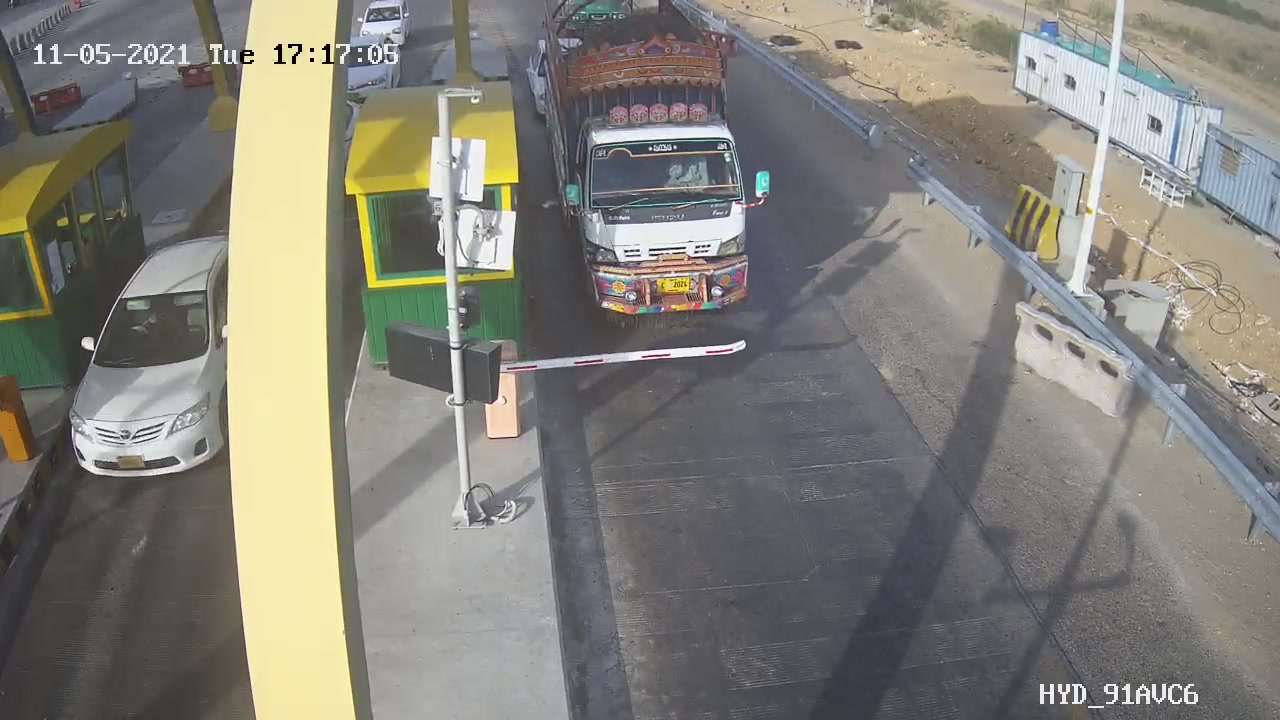F5: (527, 1, 792, 338)
